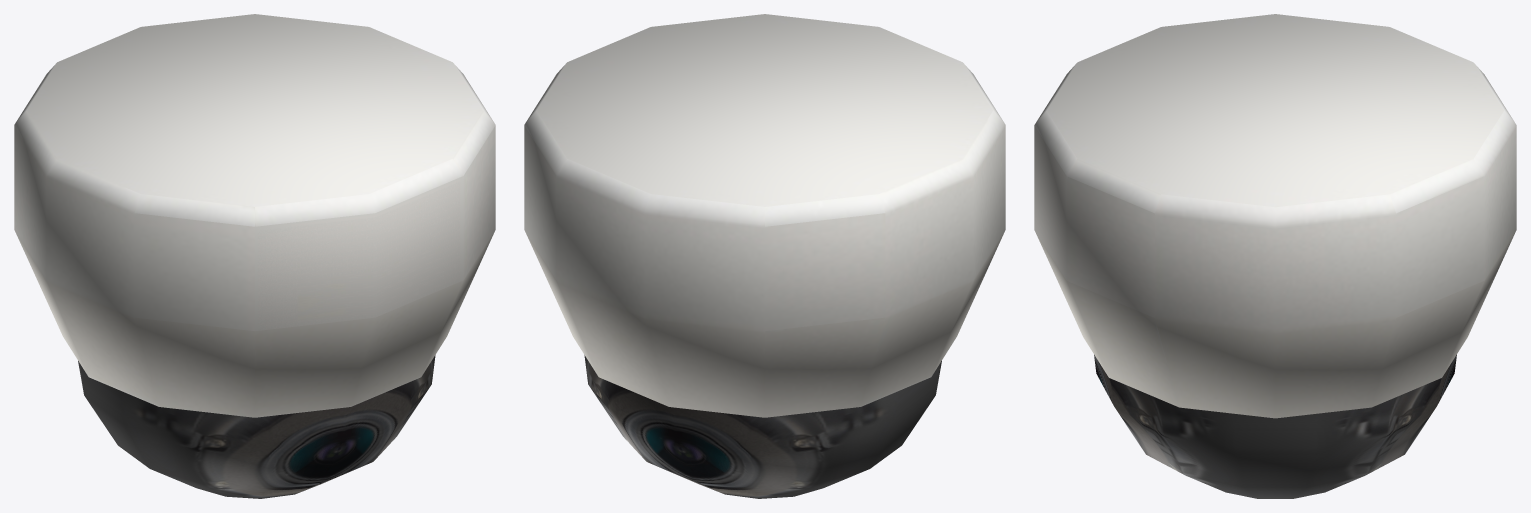
The model's file is cctvQND6070R.gltf.
The picture shows the model from 3 angles, left to right: view 1: azimuth 30°, elevation 25°; view 2: azimuth 150°, elevation 25°; view 3: azimuth 270°, elevation 25°; orthographic projection.
Parts seen in each view (by area): view 1: cctvQND6070R; view 2: cctvQND6070R; view 3: cctvQND6070R.
Boxes of the visible parts, x1,y1,x2,y2 form: cctvQND6070R: (14,14,495,498); cctvQND6070R: (524,14,1005,498); cctvQND6070R: (1034,14,1516,498).
Bounding box in the file's own units: 2.4 × 2 × 2.4.
1 material, 1 textured.
